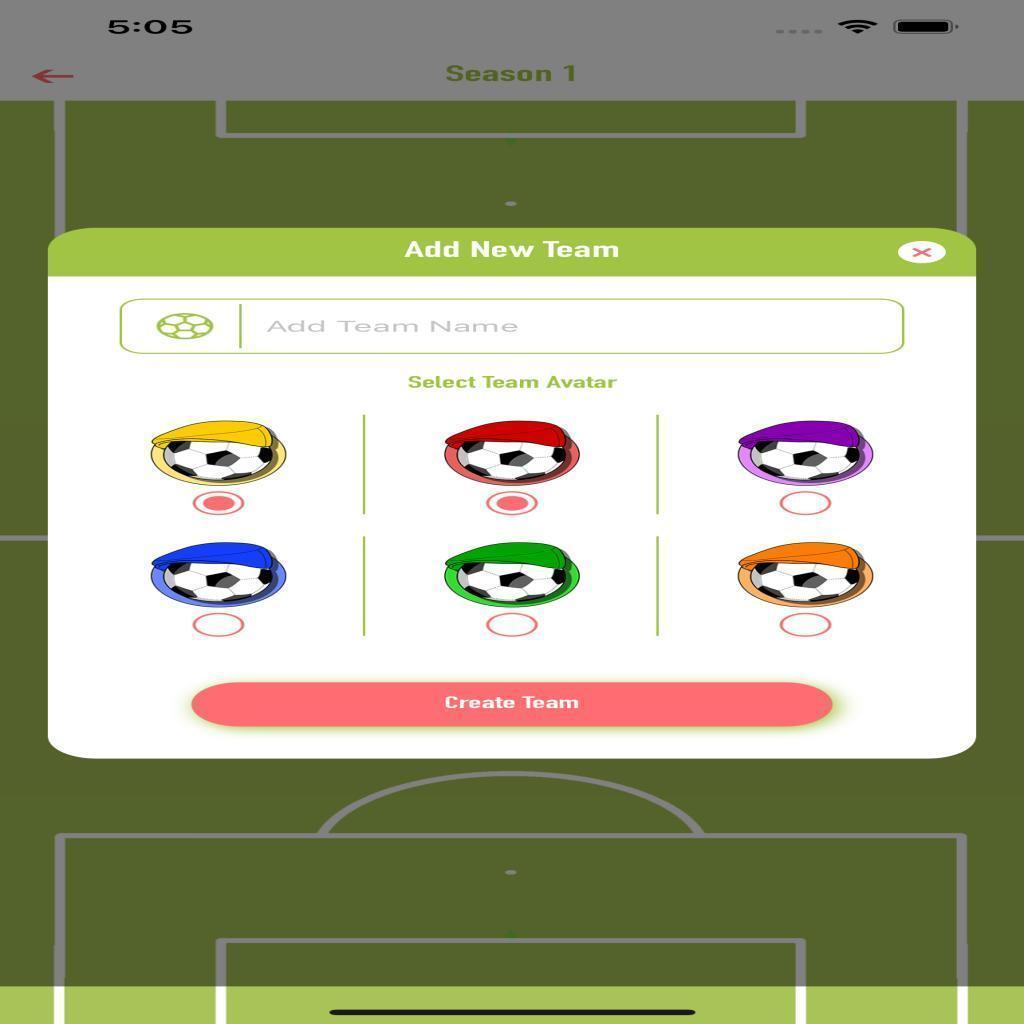button: (194, 678, 837, 734)
input: (239, 300, 904, 352)
radio: (182, 609, 266, 641), (772, 611, 843, 644), (475, 609, 547, 640), (186, 487, 256, 518), (479, 488, 547, 516), (774, 490, 844, 517)
